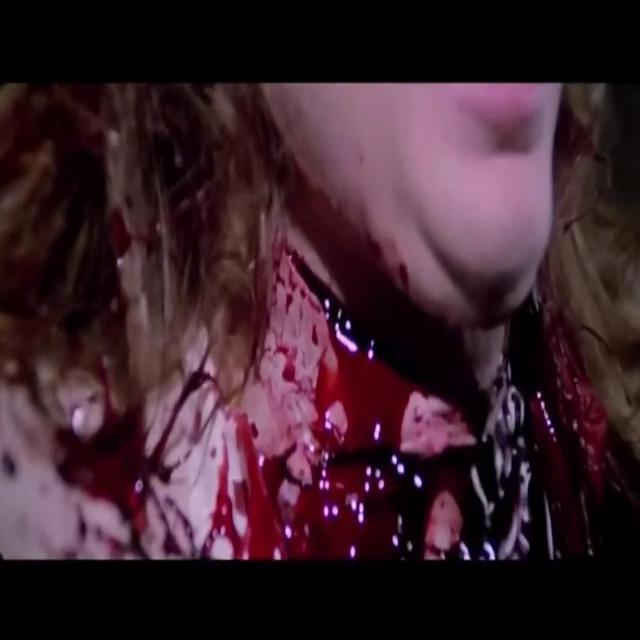flood: (193, 257, 640, 564)
